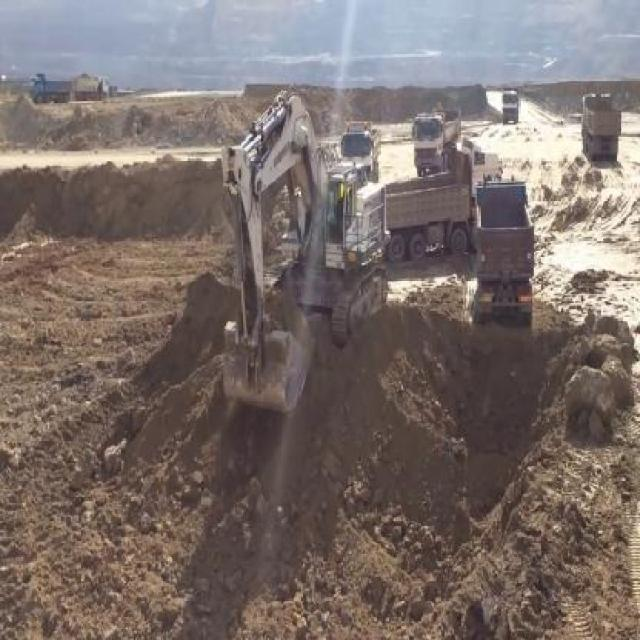dump_truck: (381, 144, 502, 274), (474, 190, 535, 322), (582, 92, 620, 166), (414, 118, 461, 162), (347, 120, 382, 174), (504, 92, 519, 116)
excavator: (209, 91, 386, 417)
